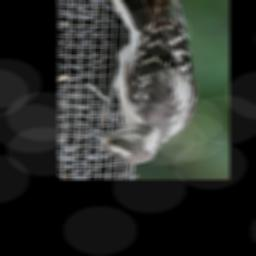Woodpecker: (84, 0, 198, 165)
